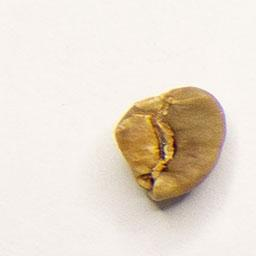defect: (110, 82, 230, 207)
